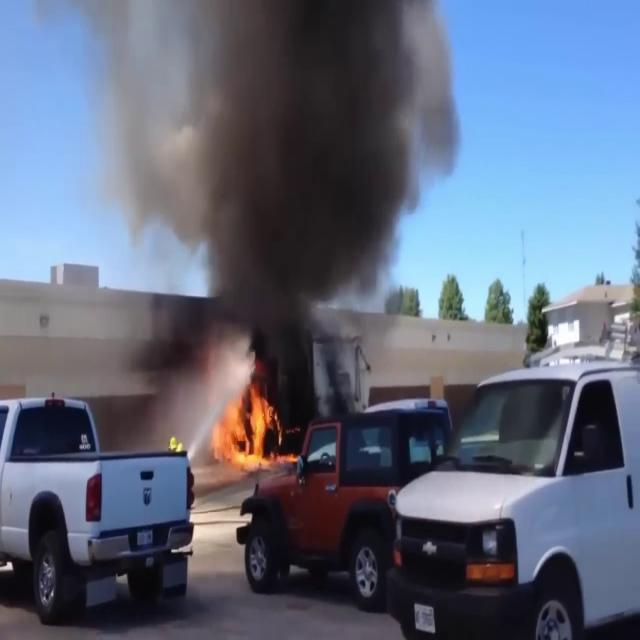Fire: (208, 378, 284, 470)
Smoke: (75, 1, 468, 372)
